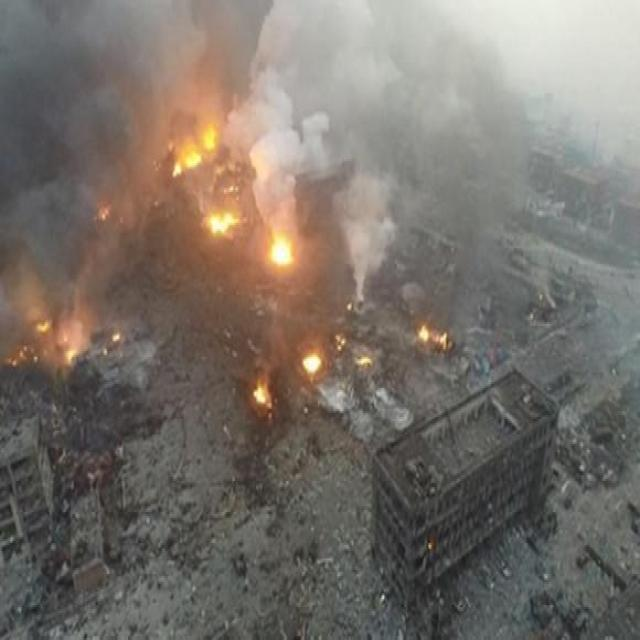Fire: (172, 128, 215, 178), (268, 235, 295, 268), (418, 326, 449, 353), (208, 213, 240, 234), (302, 356, 324, 376), (253, 386, 266, 408)
Smoke: (2, 4, 536, 368)
